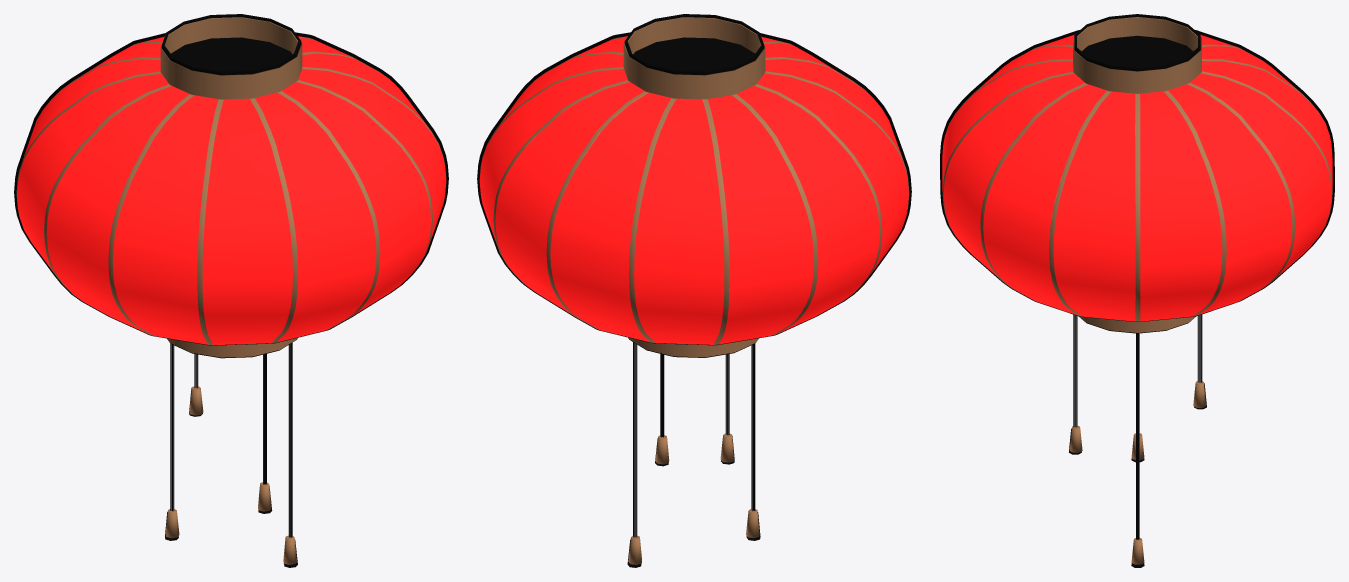
Rendered from Linterna_2.fbx.
3 renders of one model, left to right at view 1: azimuth 30°, elevation 25°; view 2: azimuth 150°, elevation 25°; view 3: azimuth 270°, elevation 25°, orthographic. The views are drawn at different scales.
Visible parts, largest first — view 1: Linterna_China_2, LineArt; view 2: Linterna_China_2, LineArt; view 3: Linterna_China_2, LineArt.
Part boxes in pixels (x1,y1,x2,y2): Linterna_China_2: (16, 17, 446, 564); LineArt: (14, 14, 448, 567); Linterna_China_2: (479, 17, 909, 564); LineArt: (477, 14, 911, 567); Linterna_China_2: (942, 17, 1332, 564); LineArt: (940, 14, 1334, 567).
Bounding box in the file's own units: 2.97 × 4.04 × 2.91.
